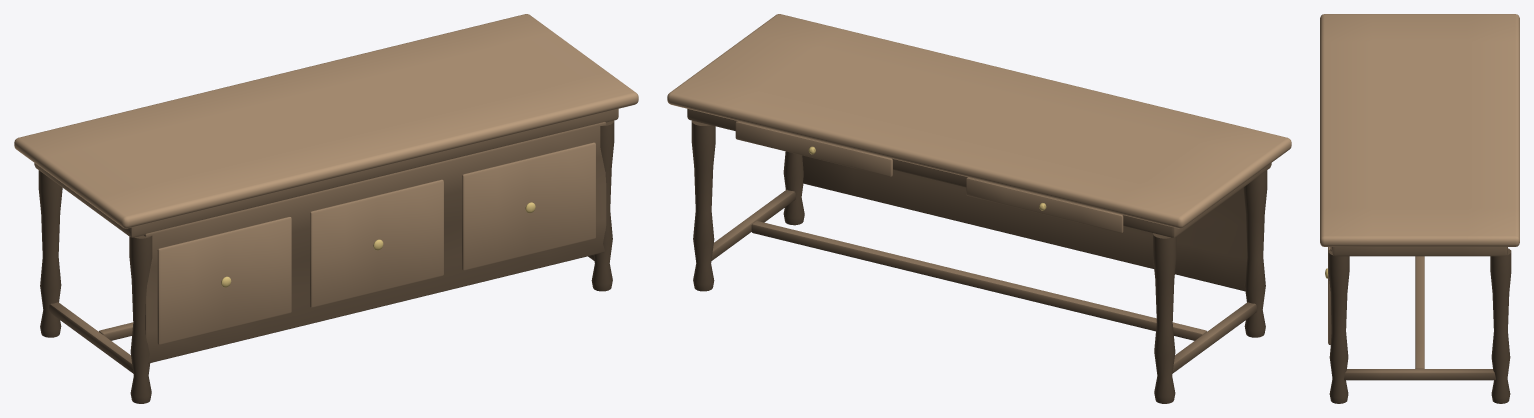
Rendered from obj_kit_lecturetable.glb.
The picture shows the model from 3 angles, left to right: view 1: azimuth 30°, elevation 25°; view 2: azimuth 150°, elevation 25°; view 3: azimuth 270°, elevation 25°; orthographic projection. The views are drawn at different scales.
Parts seen in each view (by area): view 1: Cube, Cube.002, Cube.003, Cube.004, Cube.005, Cube.001, leg.001, leg, leg.002, Cube.008; view 2: Cube, Cube.002, Cube.010, leg.003, leg.001, leg, Cube.006, Cube.007, Cube.001, Cube.008, Cube.009, leg.002; view 3: Cube, leg.003, leg.002, Cube.009, Cube.001, Cube.010, Cube.005.
Part boxes in pixels (bbox=[...]): Cube: bbox=[14, 14, 638, 228]; Cube.002: bbox=[144, 122, 606, 363]; Cube.003: bbox=[157, 217, 291, 344]; Cube.004: bbox=[310, 179, 443, 307]; Cube.005: bbox=[462, 142, 595, 270]; Cube.001: bbox=[34, 109, 618, 237]; leg.001: bbox=[38, 170, 62, 337]; leg: bbox=[129, 235, 152, 403]; leg.002: bbox=[591, 120, 614, 291]; Cube.008: bbox=[48, 302, 133, 373]; Cube: bbox=[667, 14, 1291, 228]; Cube.002: bbox=[802, 155, 1247, 291]; Cube.010: bbox=[751, 221, 1206, 340]; leg.003: bbox=[691, 120, 715, 291]; leg.001: bbox=[1153, 233, 1176, 403]; leg: bbox=[1243, 170, 1267, 337]; Cube.006: bbox=[966, 177, 1123, 232]; Cube.007: bbox=[735, 121, 892, 176]; Cube.001: bbox=[687, 109, 1271, 237]; Cube.008: bbox=[1172, 302, 1257, 373]; Cube.009: bbox=[711, 189, 795, 260]; leg.002: bbox=[783, 151, 804, 225]; Cube: bbox=[1320, 14, 1519, 246]; leg.003: bbox=[1490, 248, 1511, 403]; leg.002: bbox=[1328, 249, 1349, 403]; Cube.009: bbox=[1344, 369, 1495, 380]; Cube.001: bbox=[1332, 247, 1507, 256]; Cube.010: bbox=[1415, 256, 1424, 368]; Cube.005: bbox=[1328, 247, 1330, 344].
Bounding box in the file's own units: 2.24 × 0.81 × 0.84.
